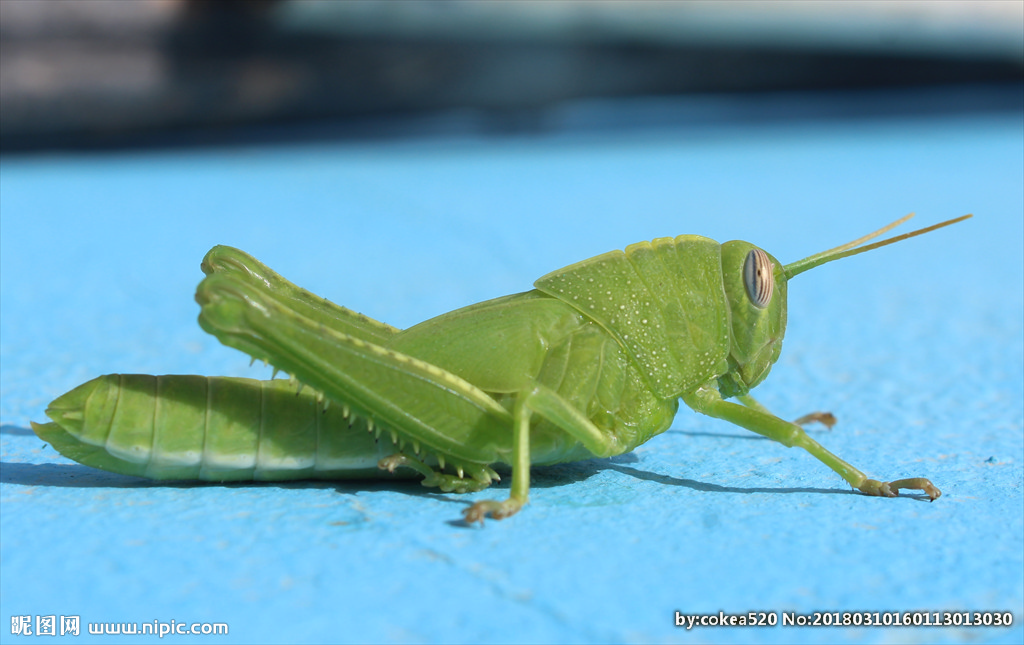huangchong: (34, 192, 908, 524)
